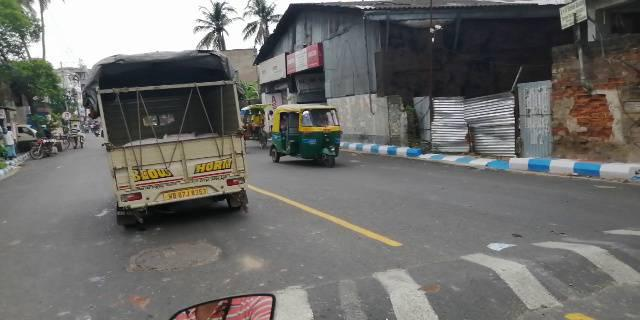Autorickshaw: (270, 102, 344, 168)
Minitruck: (94, 46, 250, 233)
Rickshaw: (240, 103, 269, 152)
